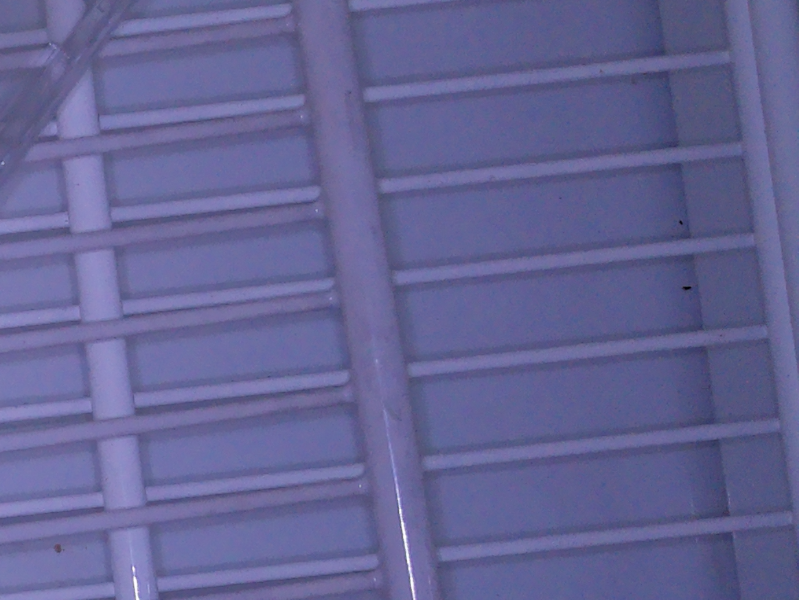plate: (1, 1, 128, 185)
